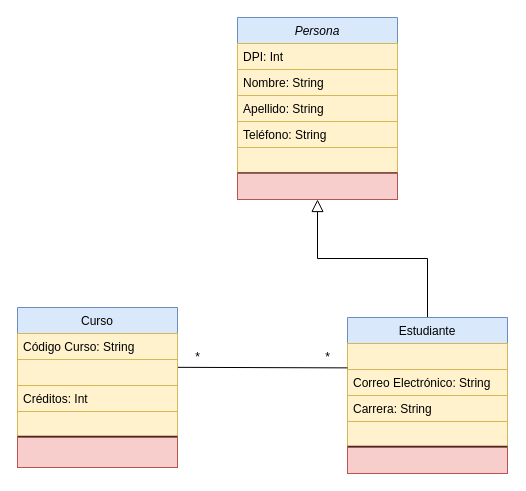
Some shapes in this 526 by 491 pixel diagram are drawn without their labels. Each missing label, with the centre of its shape:
Código Estudiante: Int: the point at 427,356
Descripción: String: the point at 97,424
Dirección: String: the point at 317,160
Facultad: String: the point at 427,434
Nombre Curso: String: the point at 97,372
